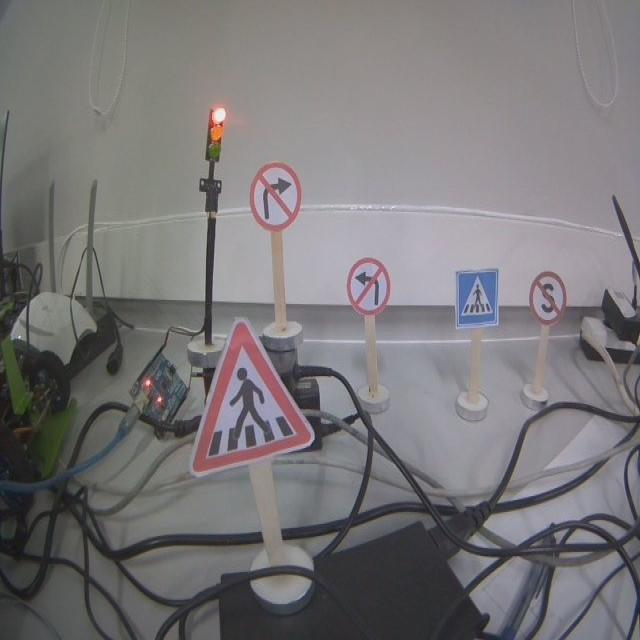Dilarang Belok Kanan: (249, 163, 302, 232)
Dilarang Belok Kiri: (347, 259, 390, 313)
Lampu Merah: (205, 107, 225, 161)
Rambu Berhenti: (529, 271, 567, 324)
Rambu Penyebrangan: (189, 319, 313, 473), (455, 268, 499, 327)
